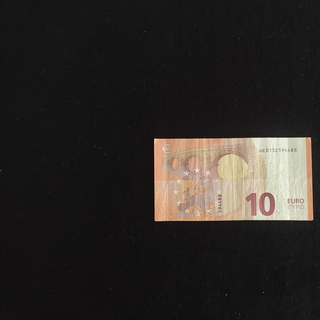10EUROBack: (153, 136, 314, 221)
